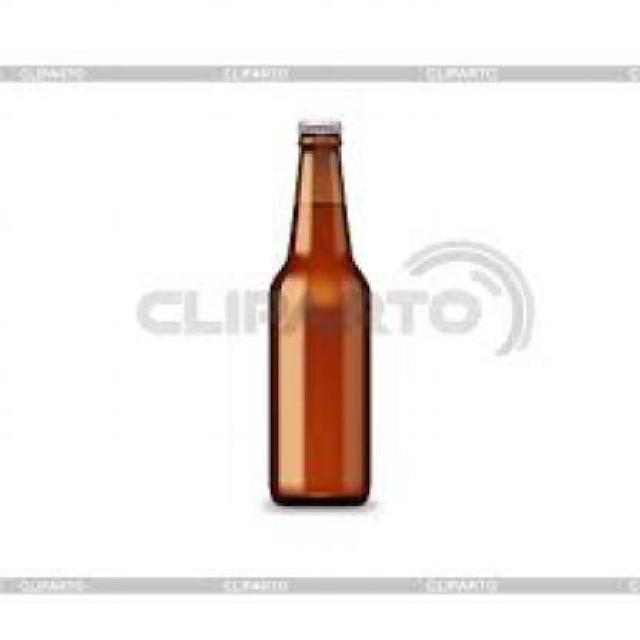kaca: (265, 134, 369, 503)
